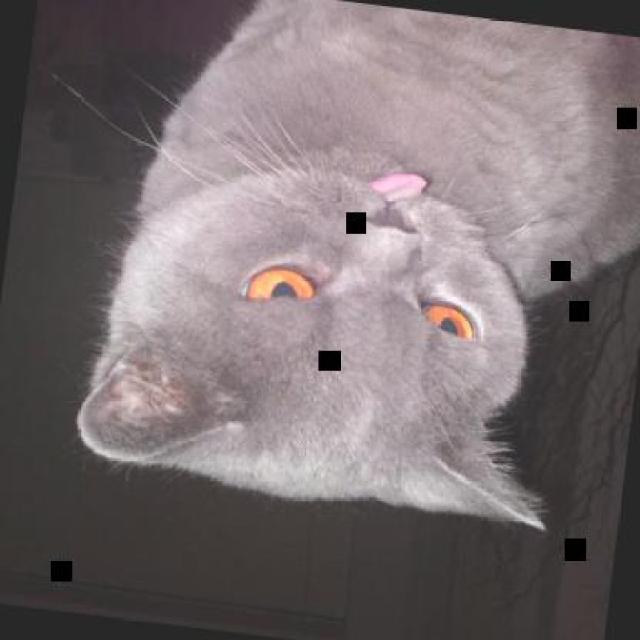cat: (66, 0, 639, 543)
